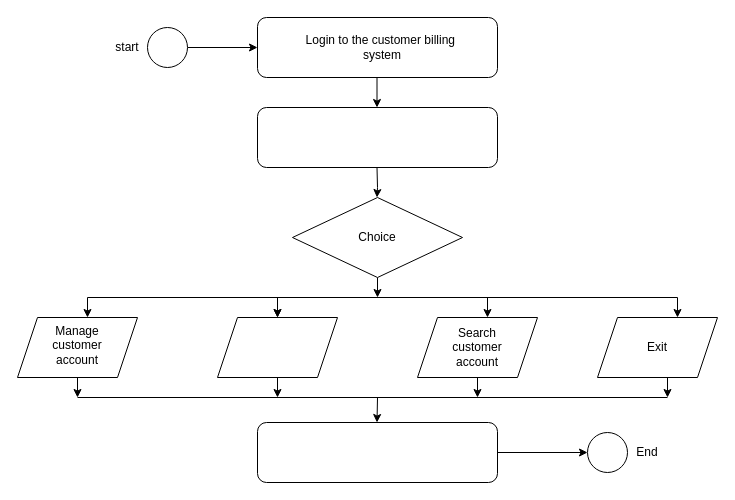
The diagram is 735 pixels wide and 500 high, and some of its shapes have lost their labels. The centre of each missing label's shape, as x and y in pixels:
"Add customer account" goes at pixel 277 347.
"Check user level and permission" goes at pixel 377 137.
"Logout from the system" goes at pixel 377 452.
